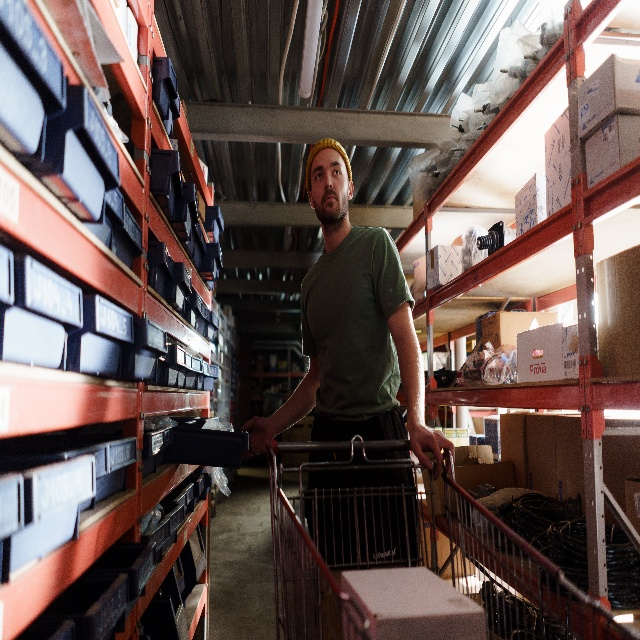Sin_guantes: (408, 421, 459, 481), (239, 413, 275, 461)
